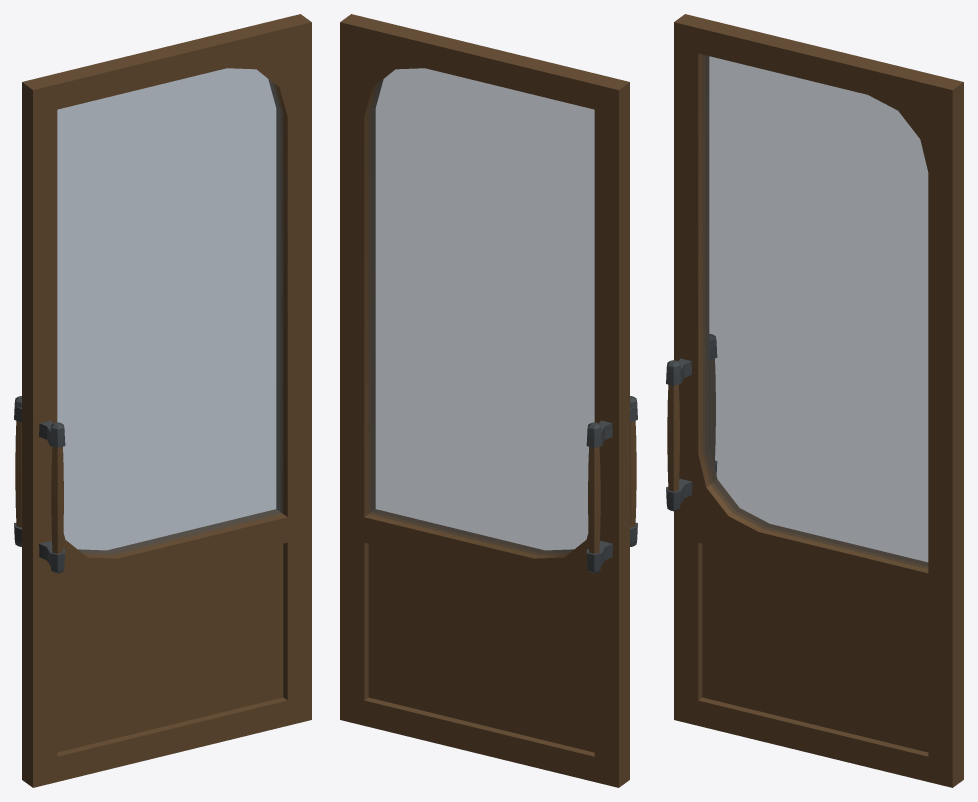
Rendered from SM_Buildings_University_01_Door_02_R.fbx.
3 renders of one model, left to right at view 1: azimuth 30°, elevation 25°; view 2: azimuth 150°, elevation 25°; view 3: azimuth 330°, elevation 25°, orthographic.
Parts seen in each view (by area): view 1: SM_Buildings_University_01_Door_02_R; view 2: SM_Buildings_University_01_Door_02_R; view 3: SM_Buildings_University_01_Door_02_R.
Part boxes in pixels (box(x1,y1,x2,y2)): SM_Buildings_University_01_Door_02_R: box(14, 14, 311, 787); SM_Buildings_University_01_Door_02_R: box(340, 14, 637, 787); SM_Buildings_University_01_Door_02_R: box(666, 14, 963, 787).
Bounding box in the file's own units: 1.15 × 2.75 × 0.3109.
